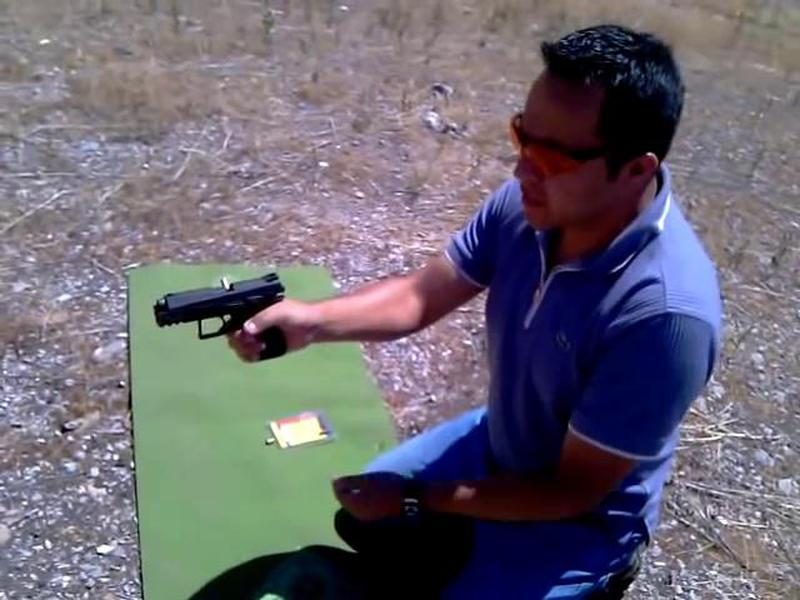Pistola: (143, 269, 304, 379)
